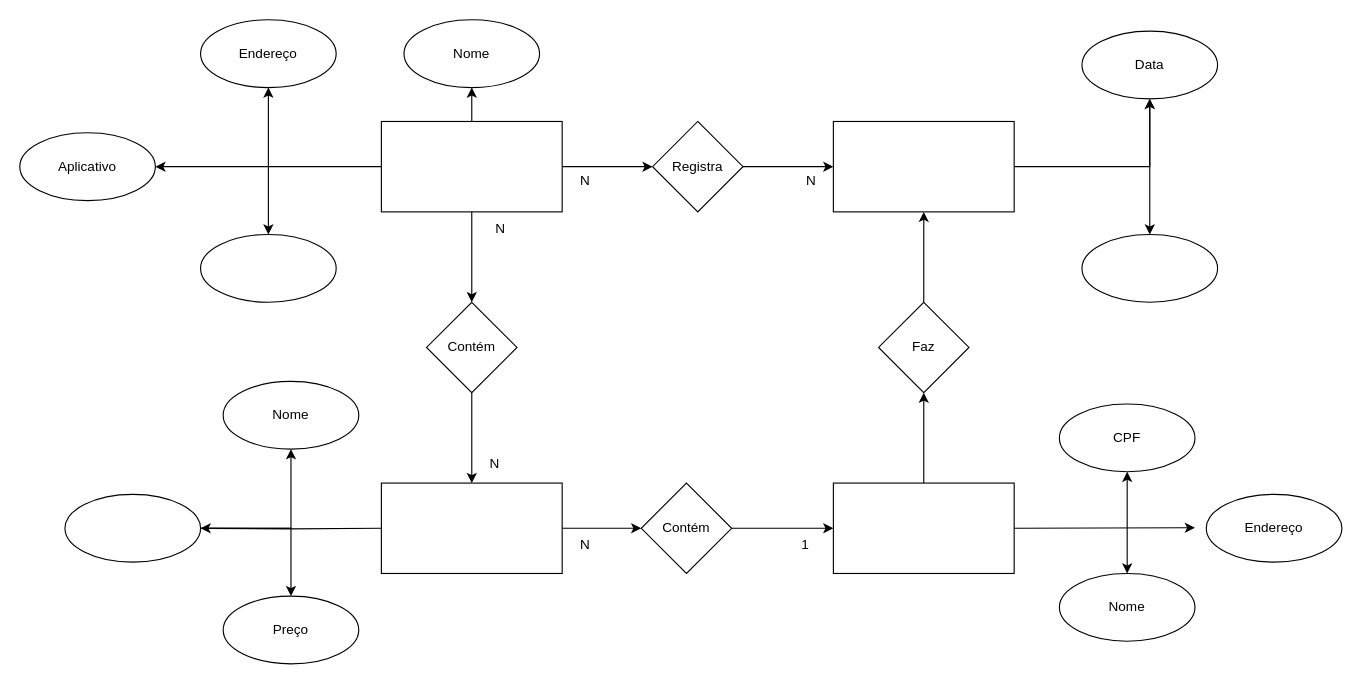
Some shapes in this 1362 by 684 pixel diagram are drawn without their labels. The shapes that lost their labels are listed below. From the top down, each one's centre as x and y in pixels, then its label:
At point (471, 166): "Loja".
At point (923, 166): "Compra".
At point (267, 267): "Site".
At point (1149, 267): "Valor Total".
At point (132, 527): "Quantidade em Estoque".
At point (471, 527): "Produto".
At point (923, 527): "Cliente".
